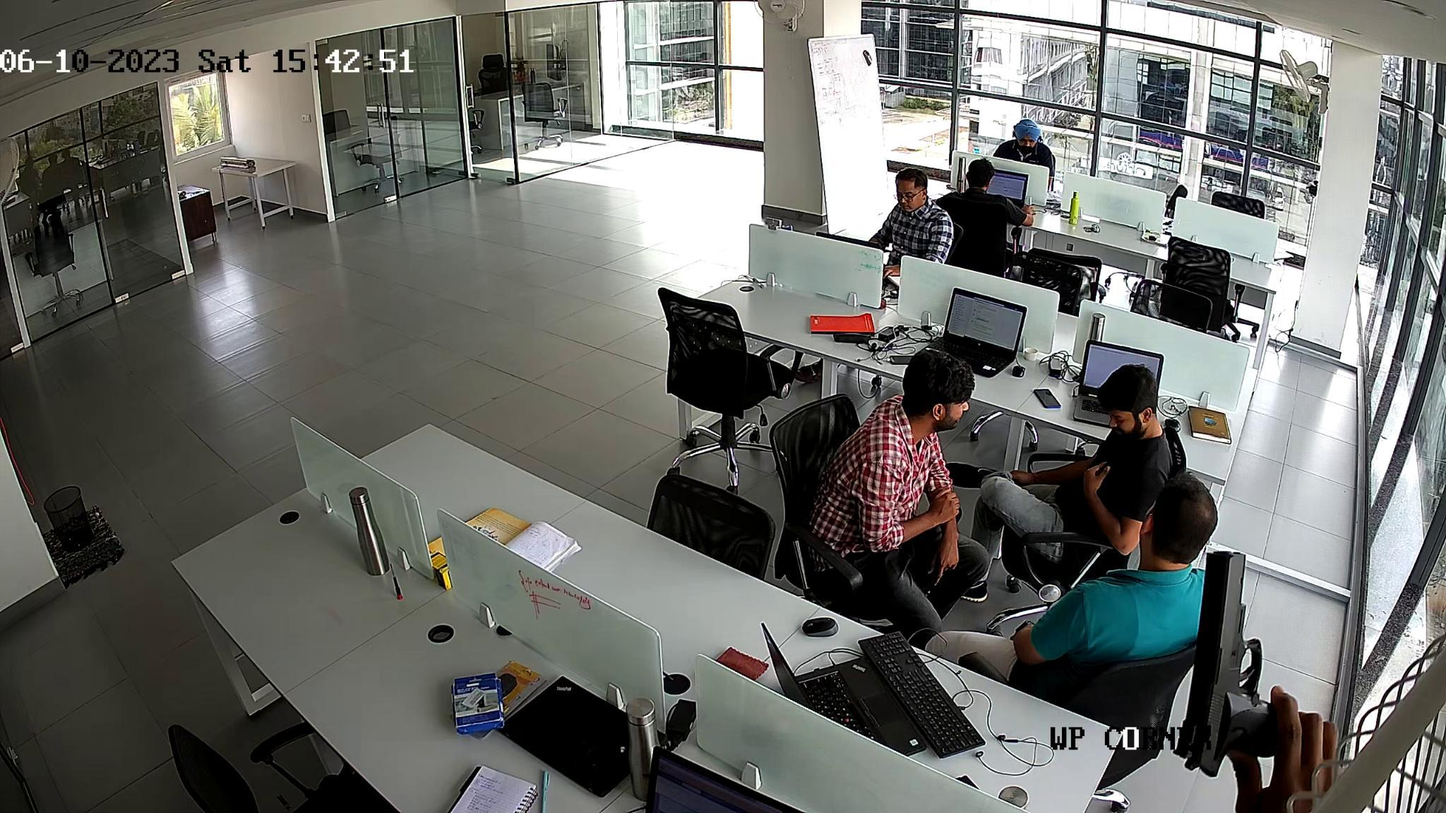gun: (1180, 553, 1337, 776)
